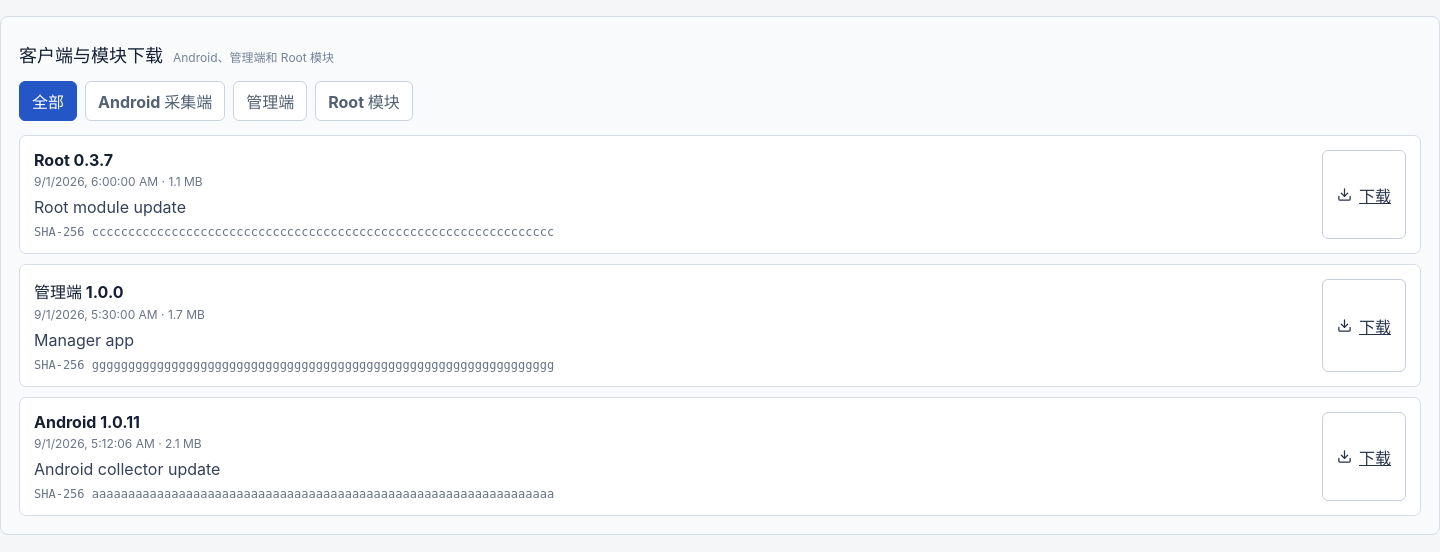
Test: filters the download center to management app releases
Click the button "管理端". click: (270, 101)
box: x1=233 y1=81 x2=307 y2=121
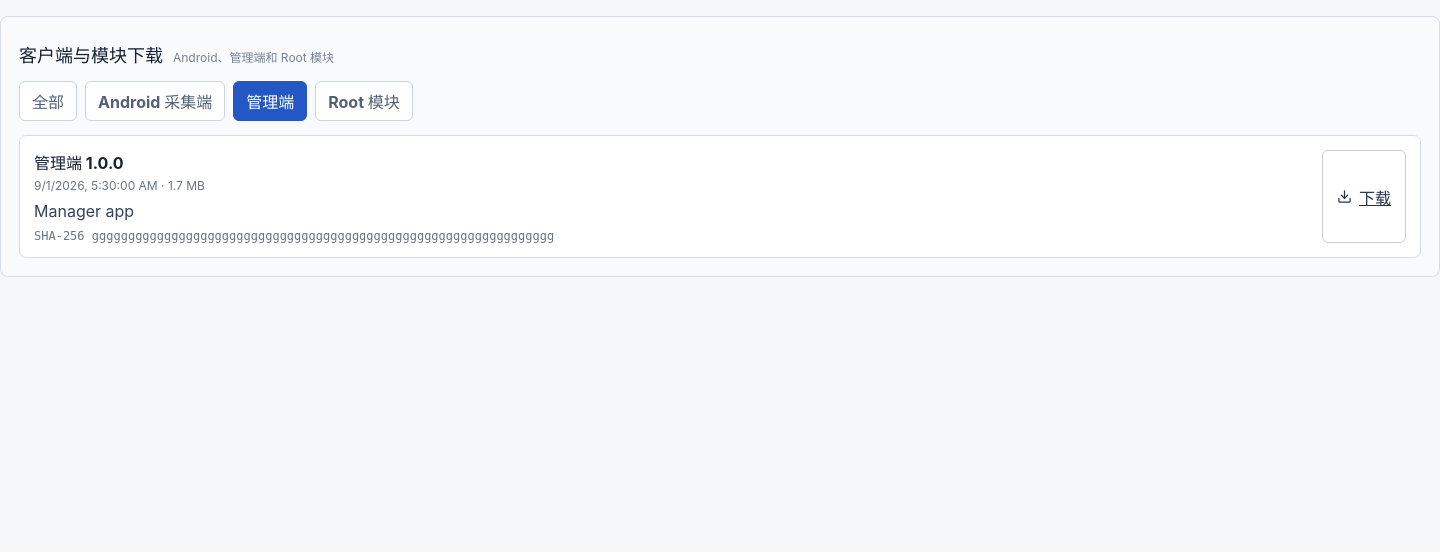
Expected: the text "管理端 1.0.0" is shown, x1=34 y1=153 x2=124 y2=173
Result: the text "Android 1.0.11" is gone
